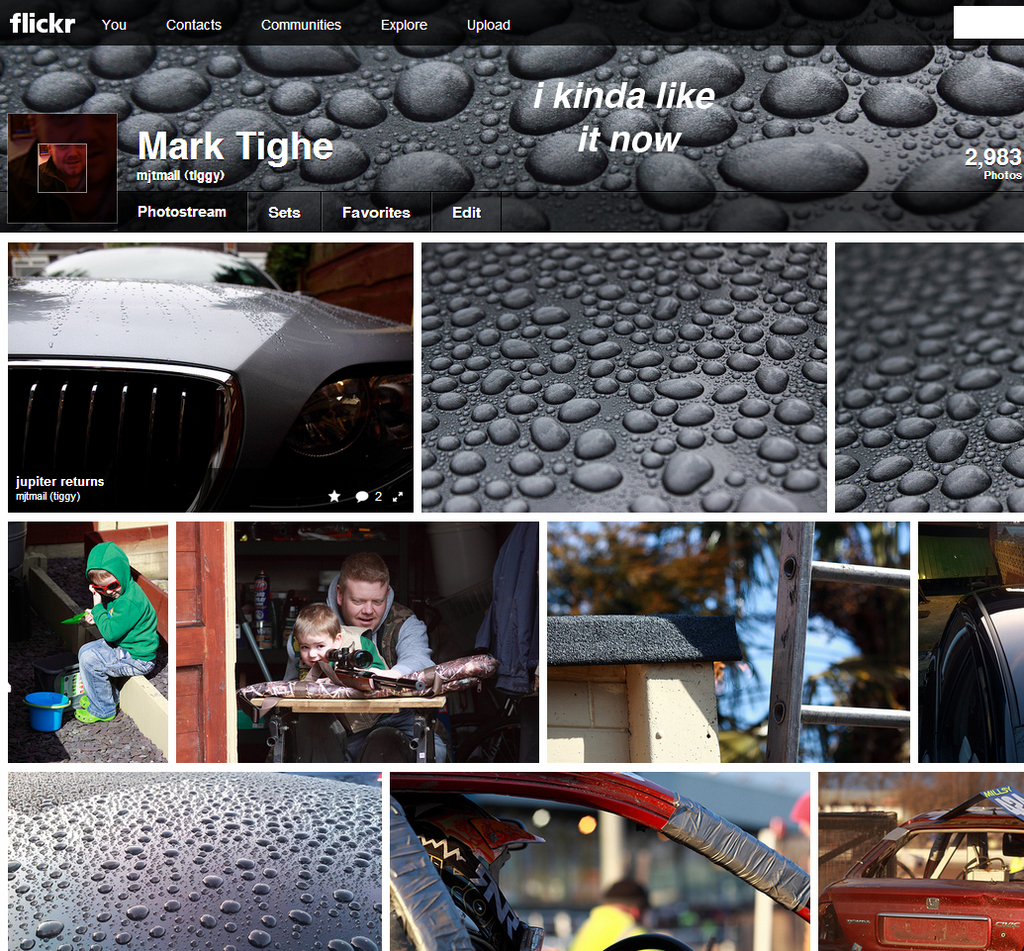cars: (0, 43, 1023, 233), (418, 240, 829, 515), (0, 243, 412, 510), (381, 772, 811, 950), (0, 764, 377, 950), (834, 242, 1022, 515), (816, 784, 1023, 949), (920, 585, 1023, 762)
